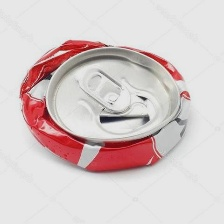can: (12, 36, 193, 179)
